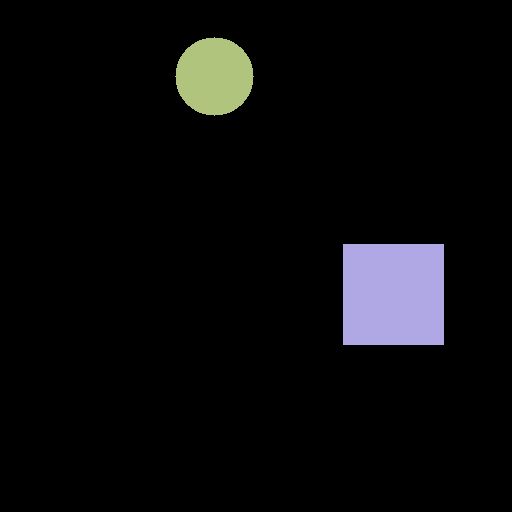circle: (175, 37, 253, 115)
square: (343, 244, 443, 344)
